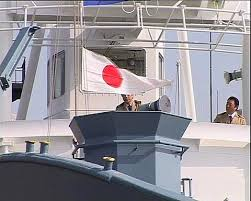Japanese Flag: (80, 46, 173, 94)
